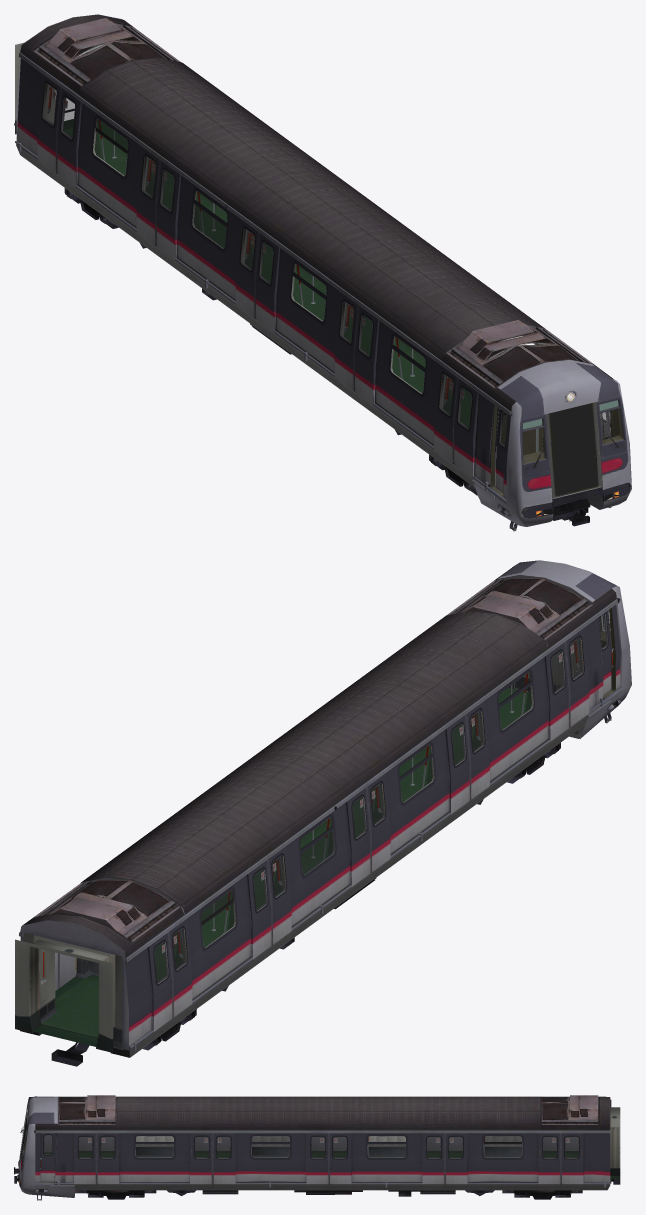
File: train.gltf
The picture shows the model from 3 angles, top to bottom: view 1: azimuth 30°, elevation 25°; view 2: azimuth 150°, elevation 25°; view 3: azimuth 270°, elevation 25°; orthographic projection. The views are drawn at different scales.
Parts seen in each view (by area): view 1: train; view 2: train; view 3: train.
Boxes of the visible parts, left/top/right/bottom form: train: left=14, top=14, right=631, bottom=531; train: left=15, top=560, right=631, bottom=1066; train: left=14, top=1095, right=620, bottom=1200.
Size of the model in its own units: 3.35 by 4.07 by 26.18.
Materials: 25 (25 with a texture image).
